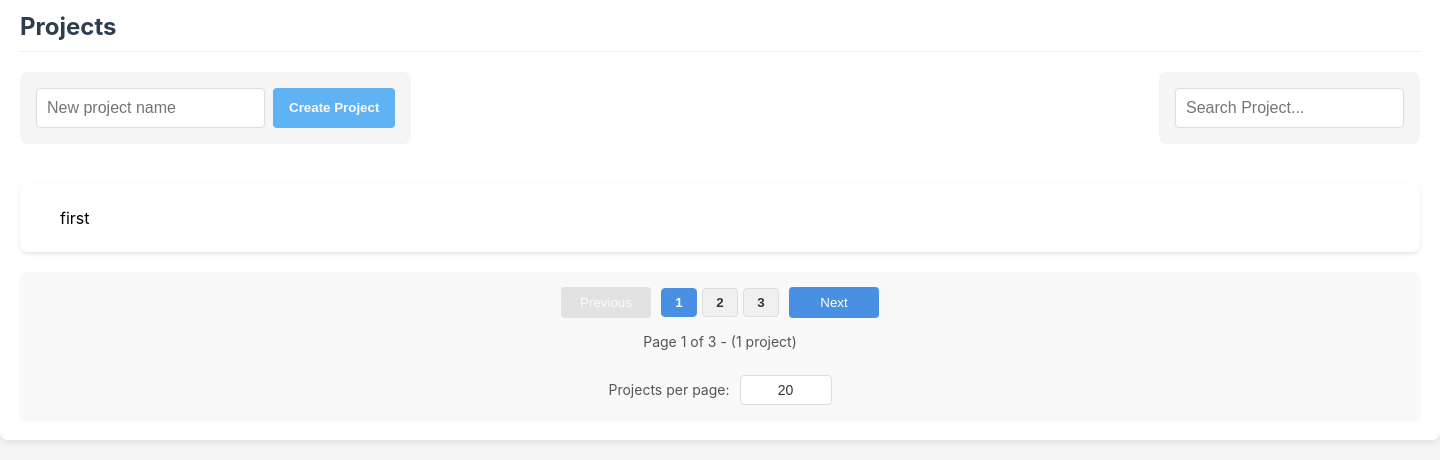
Test: ProjectOverview › falls back to the last page if the current one is beyond it
Expected: the text "first" is shown, [20,184,1420,252]
Click the button "3": (761, 302) [743,288,779,317]
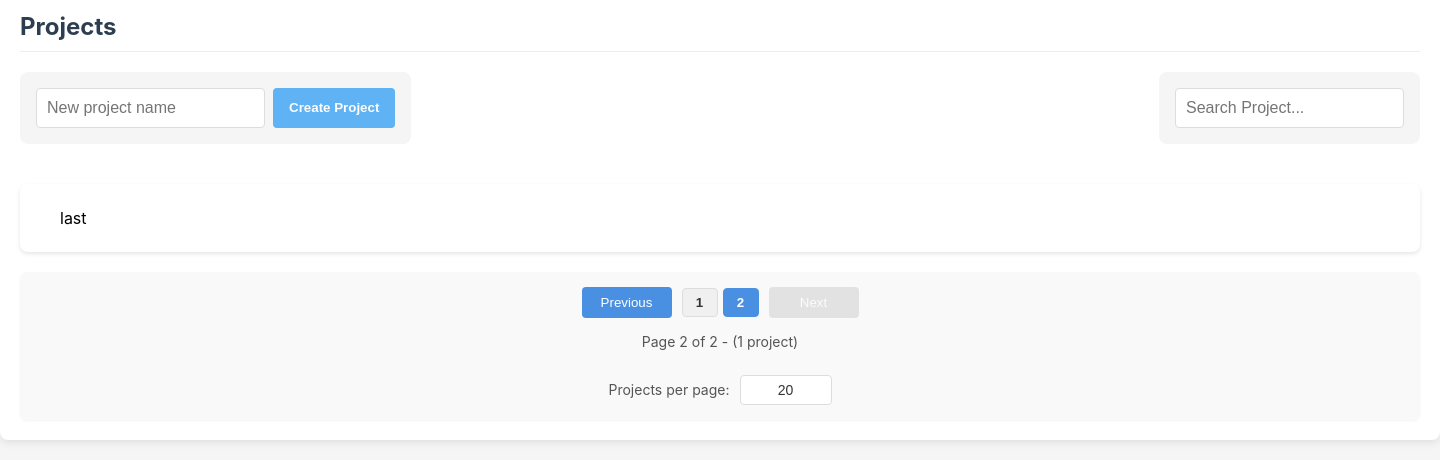
Expected: the text "last" is shown, [20,184,1420,252]
